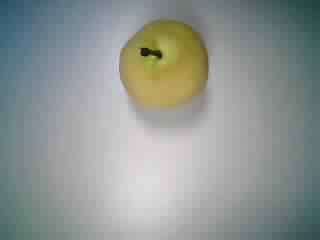pear: (111, 15, 220, 117)
